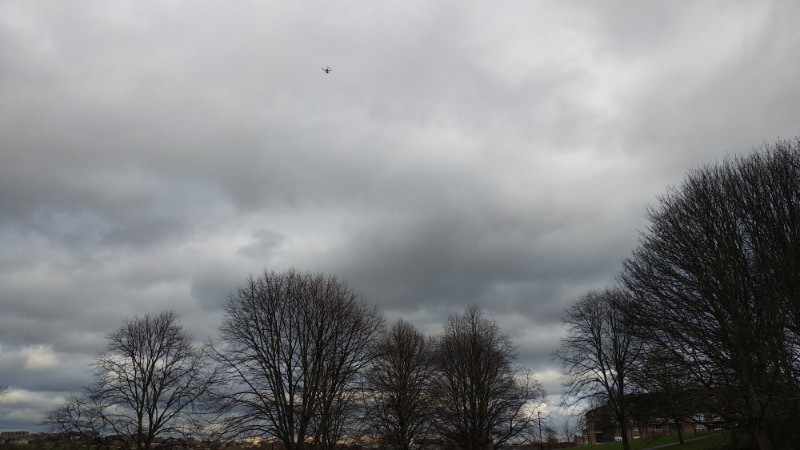drone: (322, 65, 332, 74)
